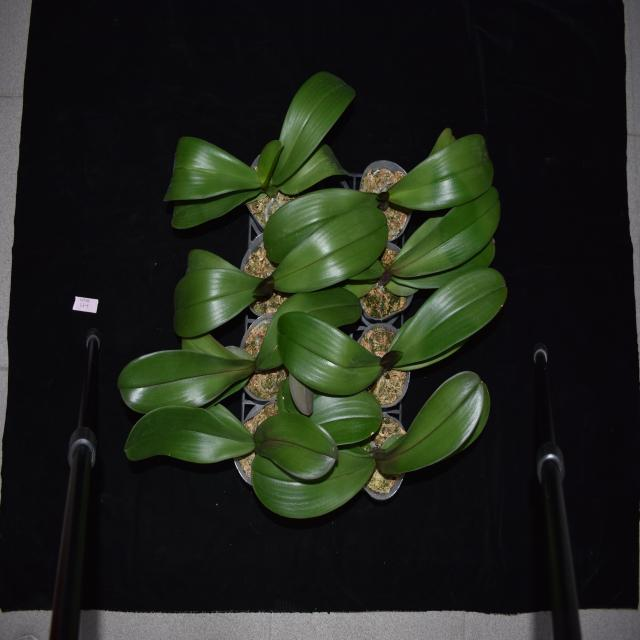leaf: (377, 371, 495, 485), (386, 266, 510, 372), (255, 287, 368, 378), (274, 72, 363, 182), (390, 190, 502, 274), (260, 187, 378, 265), (246, 448, 376, 518), (121, 400, 251, 470), (278, 308, 382, 392), (110, 350, 254, 409), (389, 133, 493, 213), (390, 232, 498, 298), (160, 132, 260, 198), (253, 410, 339, 486), (169, 275, 266, 338), (282, 143, 359, 198), (310, 392, 388, 445), (178, 235, 249, 289), (167, 192, 267, 225), (174, 338, 248, 368), (287, 359, 314, 416), (256, 134, 284, 184), (254, 271, 282, 304), (383, 341, 410, 369), (376, 183, 389, 209)
